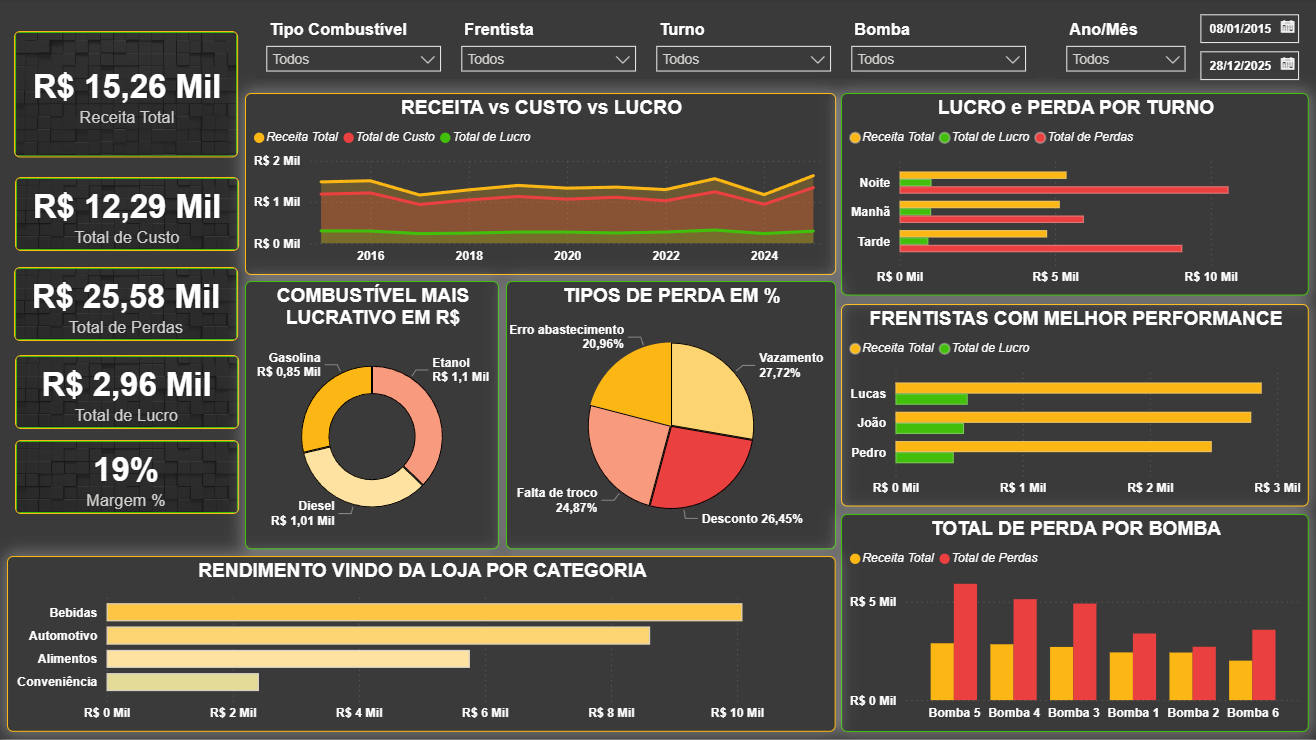

What the dashboard file says about the page in this screenshot:
{"tool":"powerbi","page":{"name":"DASHBOARD - Posto de Gasolina","canvas":[1280,720],"ordinal":0},"visuals":[{"type":"image","box":[13.6,31.1,217.9,122.6],"z":0},{"type":"image","box":[14.6,173.1,217.9,72],"z":1000},{"type":"image","box":[13.6,260.7,217.9,72],"z":2000},{"type":"image","box":[14.6,346.3,217.9,72],"z":3000},{"type":"image","box":[14.6,428.9,217.9,72],"z":4000},{"type":"card","fields":{"Values":["Calendario.Total de Custo"]},"box":[14.6,173.1,217.9,72],"z":5000},{"type":"card","fields":{"Values":["Calendario.Total de Perdas"]},"box":[13.6,260.7,217.9,72],"z":6000},{"type":"card","fields":{"Values":["Calendario.Total de Lucro"]},"box":[13.6,346.3,218.8,72],"z":7000},{"type":"card","fields":{"Values":["Calendario.Margem %"]},"box":[13.6,428.9,217.9,72],"z":8000},{"type":"card","fields":{"Values":["Calendario.Receita Total"]},"box":[14.6,31.1,217.9,122.6],"z":9000},{"type":"lineChart","title":"RECEITA vs CUSTO vs LUCRO","fields":{"Category":["TABELA.Data.Variation.Hierarquia de datas.Ano","TABELA.Data.Variation.Hierarquia de datas.Trimestre","TABELA.Data.Variation.Hierarquia de datas.Mês","TABELA.Data.Variation.Hierarquia de datas.Dia"],"Y":["Calendario.Receita Total","Calendario.Total de Custo","Calendario.Total de Lucro"]},"box":[238.3,91.4,574.8,177],"z":10000},{"type":"donutChart","title":"COMBUSTÍVEL MAIS LUCRATIVO EM R$","fields":{"Category":["TABELA.Tipo Combustível"],"Y":["Calendario.Total de Lucro"]},"box":[238.3,274.3,247.1,260.7],"z":11000},{"type":"clusteredBarChart","title":"FRENTISTAS COM MELHOR PERFORMANCE","fields":{"Category":["TABELA.Frentista"],"Y":["Calendario.Receita Total","Calendario.Total de Lucro"]},"box":[818,296.7,455.2,197.4],"z":12000},{"type":"clusteredBarChart","title":"LUCRO e PERDA POR TURNO","fields":{"Category":["TABELA.Turno"],"Y":["Calendario.Receita Total","Calendario.Total de Lucro","Calendario.Total de Perdas"]},"box":[818,91.4,455.2,197.4],"z":13000},{"type":"pieChart","title":"TIPOS DE PERDA EM %","fields":{"Category":["TABELA.Tipo Perda"],"Y":["Calendario.Total de Perdas"]},"box":[492.2,274.3,321,260.7],"z":14000},{"type":"clusteredColumnChart","title":"TOTAL DE PERDA POR BOMBA","fields":{"Category":["TABELA.Bomba"],"Y":["Calendario.Receita Total","Calendario.Total de Perdas"]},"box":[818,500.9,455.2,212],"z":15000},{"type":"clusteredBarChart","title":"RENDIMENTO VINDO DA LOJA POR CATEGORIA","fields":{"Category":["TABELA.Categoria Loja"],"Y":["Calendario.Receita Total Geral"]},"box":[6.8,541.8,806.3,171.2],"z":16000},{"type":"slicer","fields":{"Values":["TABELA.Data"]},"box":[1154.5,4.9,118.7,82.7],"z":17000},{"type":"slicer","fields":{"Values":["TABELA.Tipo Combustível"]},"box":[249,15.6,189.7,62.2],"z":18000},{"type":"slicer","fields":{"Values":["TABELA.Frentista"]},"box":[438.7,15.6,189.7,62.2],"z":19000},{"type":"slicer","fields":{"Values":["TABELA.Turno"]},"box":[628.3,15.6,189.7,62.2],"z":20000},{"type":"slicer","fields":{"Values":["TABELA.Bomba"]},"box":[818,15.6,189.7,62.2],"z":21000},{"type":"slicer","fields":{"Values":["TABELA.Data.Variation.Hierarquia de datas.Ano","TABELA.Data.Variation.Hierarquia de datas.Mês"]},"box":[1027.1,15.6,136.2,62.2],"z":22000}]}

Visuals, with their boxes in screenshot pixels (x1, y1, x2, y2), scaled from the page's 1280x720 canvas onto the 1316x740 screenshot:
image: left=14, top=32, right=238, bottom=158
image: left=15, top=178, right=239, bottom=252
image: left=14, top=268, right=238, bottom=342
image: left=15, top=356, right=239, bottom=430
image: left=15, top=441, right=239, bottom=515
card - Calendario.Total de Custo: left=15, top=178, right=239, bottom=252
card - Calendario.Total de Perdas: left=14, top=268, right=238, bottom=342
card - Calendario.Total de Lucro: left=14, top=356, right=239, bottom=430
card - Calendario.Margem %: left=14, top=441, right=238, bottom=515
card - Calendario.Receita Total: left=15, top=32, right=239, bottom=158
"RECEITA vs CUSTO vs LUCRO" lineChart: left=245, top=94, right=836, bottom=276
"COMBUSTÍVEL MAIS LUCRATIVO EM R$" donutChart: left=245, top=282, right=499, bottom=550
"FRENTISTAS COM MELHOR PERFORMANCE" clusteredBarChart: left=841, top=305, right=1309, bottom=508
"LUCRO e PERDA POR TURNO" clusteredBarChart: left=841, top=94, right=1309, bottom=297
"TIPOS DE PERDA EM %" pieChart: left=506, top=282, right=836, bottom=550
"TOTAL DE PERDA POR BOMBA" clusteredColumnChart: left=841, top=515, right=1309, bottom=733
"RENDIMENTO VINDO DA LOJA POR CATEGORIA" clusteredBarChart: left=7, top=557, right=836, bottom=733
slicer - TABELA.Data: left=1187, top=5, right=1309, bottom=90
slicer - TABELA.Tipo Combustível: left=256, top=16, right=451, bottom=80
slicer - TABELA.Frentista: left=451, top=16, right=646, bottom=80
slicer - TABELA.Turno: left=646, top=16, right=841, bottom=80
slicer - TABELA.Bomba: left=841, top=16, right=1036, bottom=80
slicer - TABELA.Data.Variation.Hierarquia de datas.Ano x TABELA.Data.Variation.Hierarquia de datas.Mês: left=1056, top=16, right=1196, bottom=80
